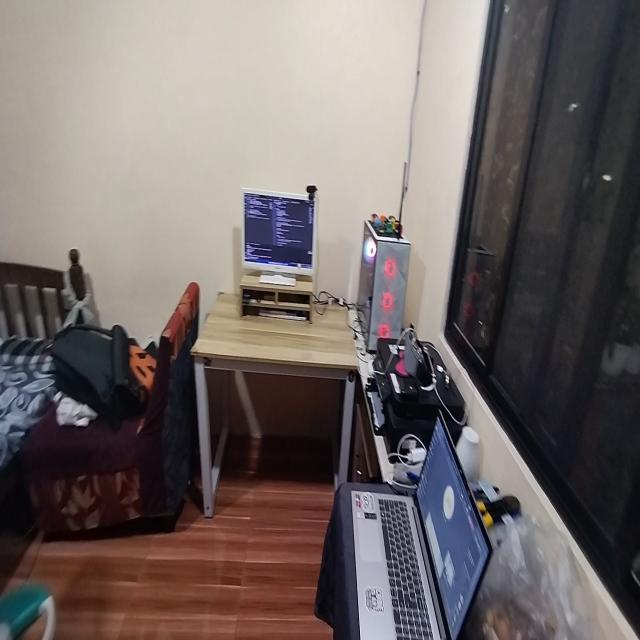table: (194, 277, 364, 520)
